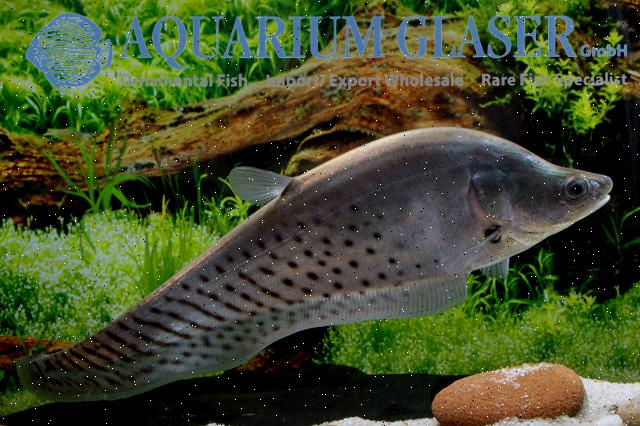Mulut: (566, 166, 622, 223)
Sirip Dada: (434, 220, 512, 286), (475, 252, 523, 284)
Sirip Punggung: (225, 154, 298, 218)
